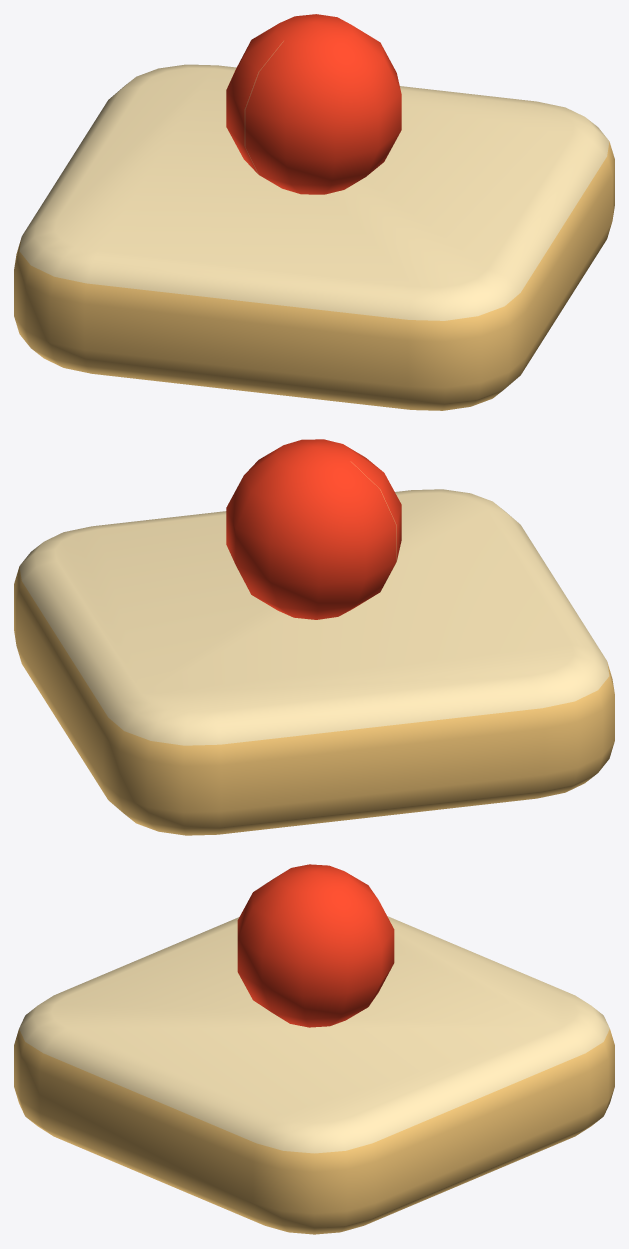
File: TopCherryCookie.fbx
3 views of the same model, one above another, from view 1: azimuth 30°, elevation 25°; view 2: azimuth 150°, elevation 25°; view 3: azimuth 270°, elevation 25° (orthographic). The views are drawn at different scales.
Parts seen in each view (by area): view 1: Cube; view 2: Cube; view 3: Cube.
Boxes of the visible parts, x1,y1,x2,y2 form: Cube: [14, 14, 614, 410]; Cube: [14, 439, 614, 835]; Cube: [14, 864, 614, 1234].
Size of the model in its own units: 253 by 115 by 253.
